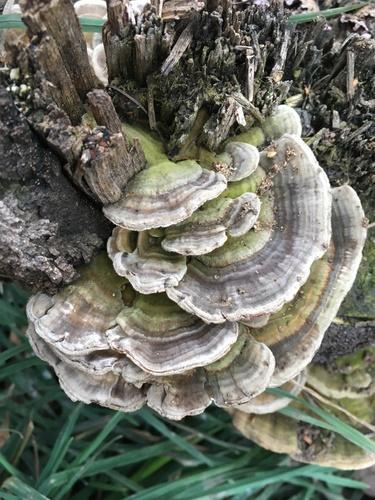poisonous_mushroom: (23, 99, 369, 420), (163, 132, 332, 326), (100, 157, 227, 231)
